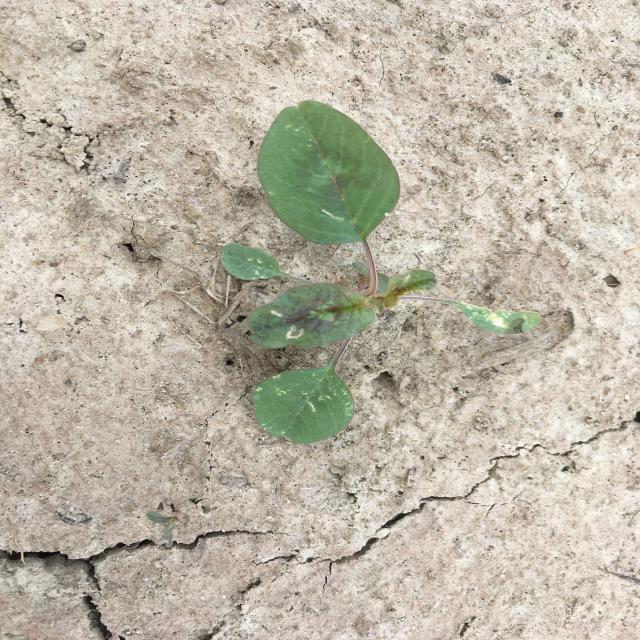PalmerAmaranth: (220, 100, 542, 444)
